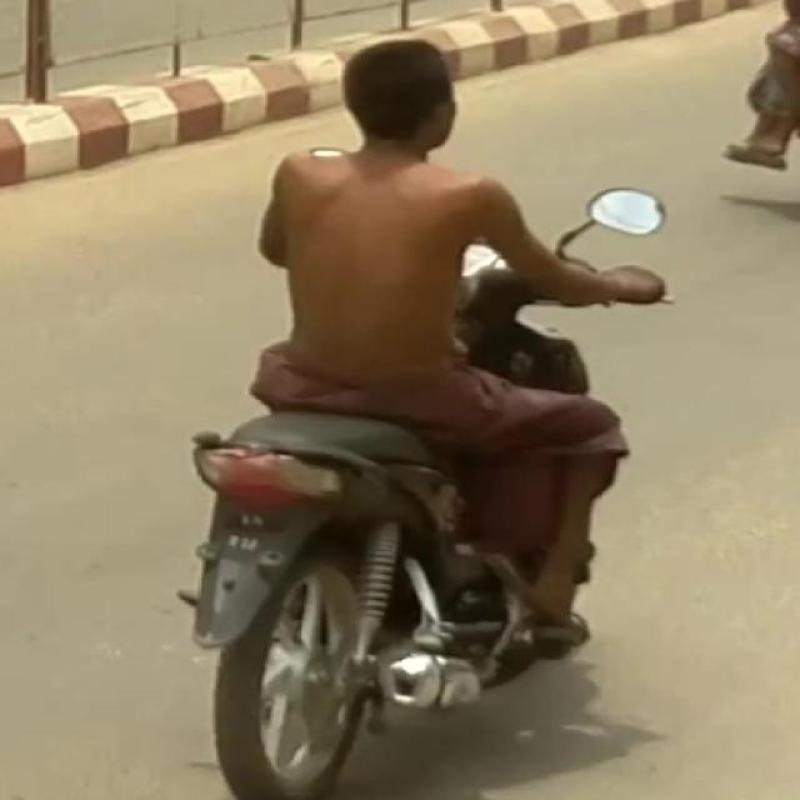nohelmet: (330, 25, 485, 163)
